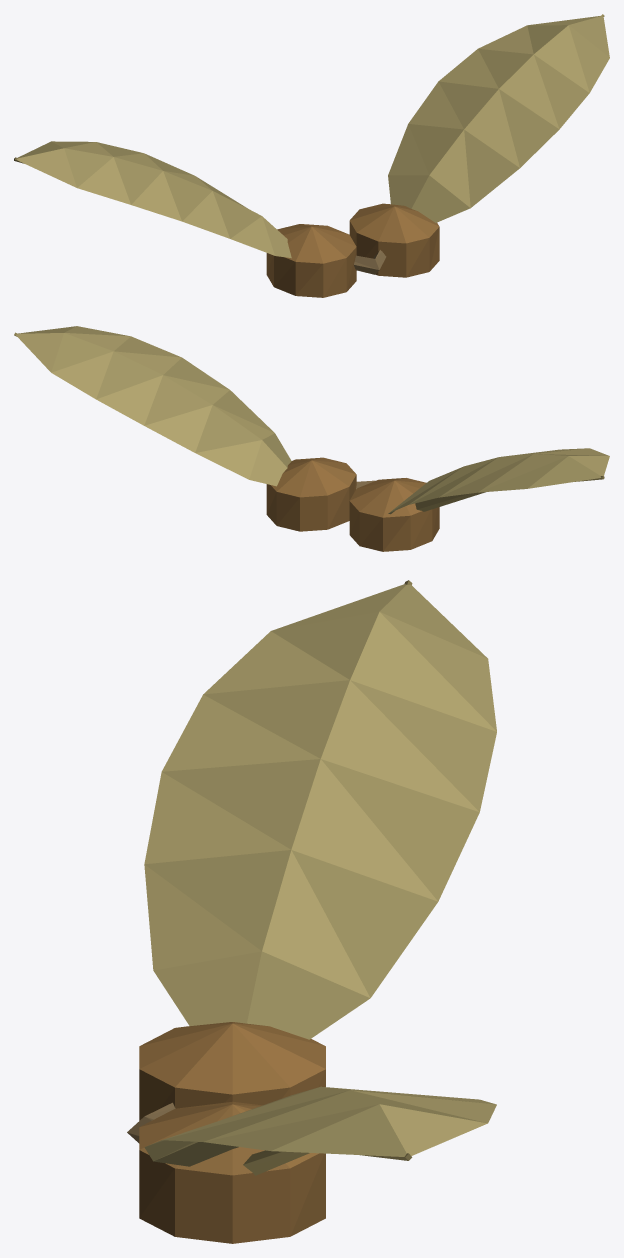
Rendered from seed_maple.glb.
The picture shows the model from 3 angles, top to bottom: view 1: azimuth 30°, elevation 25°; view 2: azimuth 150°, elevation 25°; view 3: azimuth 270°, elevation 25°; orthographic projection. The views are drawn at different scales.
Parts seen in each view (by area): view 1: seed; view 2: seed; view 3: seed.
Boxes of the visible parts, x1,y1,x2,y2 form: seed: (14, 14, 609, 297); seed: (14, 326, 609, 551); seed: (127, 580, 496, 1243).
Size of the model in its own units: 0.5411 by 0.1503 by 0.147.
